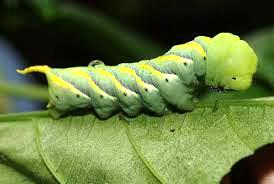Caterpillar: (15, 32, 259, 117)
